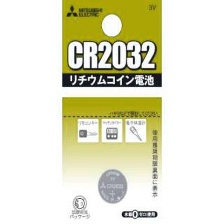battery: (95, 166, 129, 206)
plastic_box: (59, 0, 164, 224)
